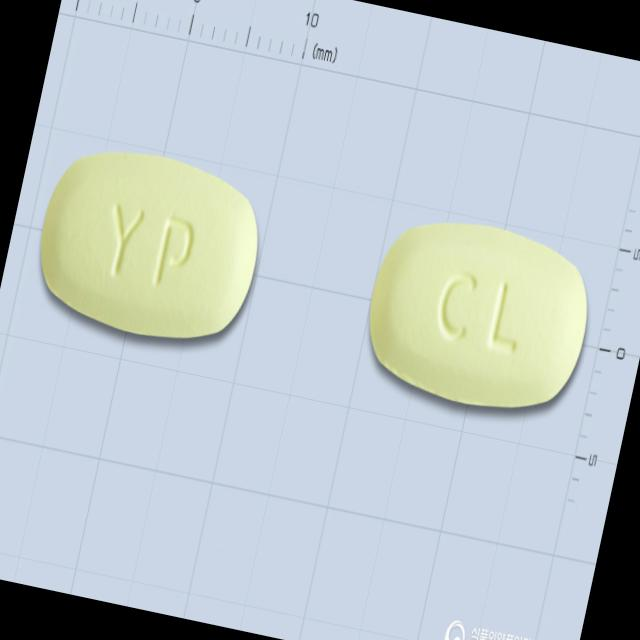Clarithromycin Tab- Youngpoong: (23, 133, 275, 359), (352, 206, 603, 428)
